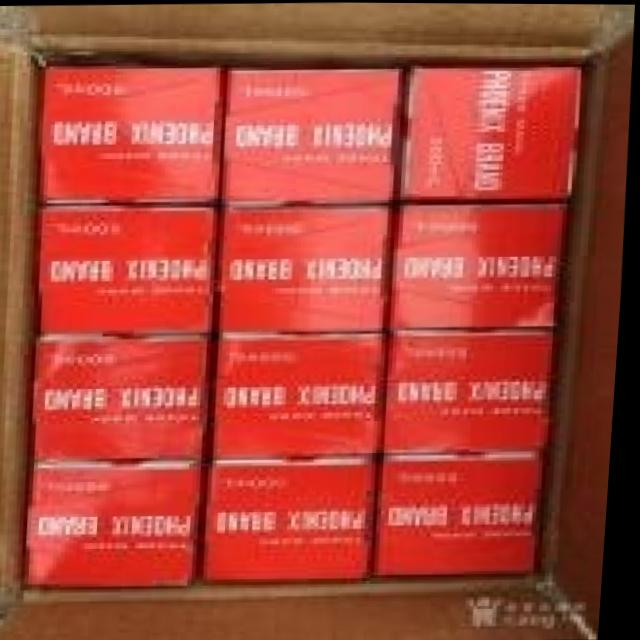box: (42, 66, 225, 203), (220, 67, 403, 204), (399, 65, 582, 202), (215, 201, 399, 337), (37, 203, 220, 339), (394, 199, 577, 335), (195, 455, 386, 585), (219, 335, 394, 460), (36, 460, 211, 585), (374, 452, 549, 577), (40, 340, 215, 464), (394, 331, 557, 455)
